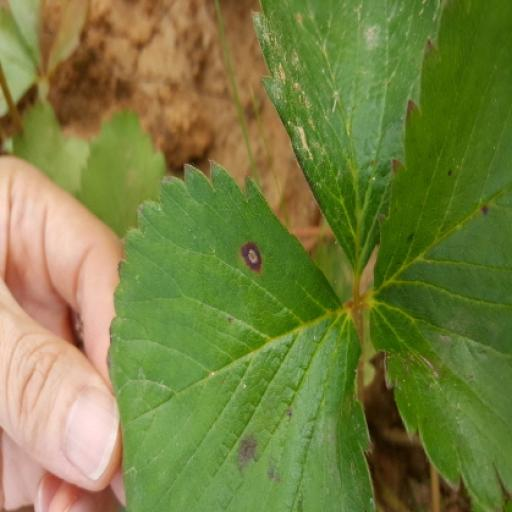Leaf Spot: (107, 159, 377, 511), (369, 0, 511, 511)
